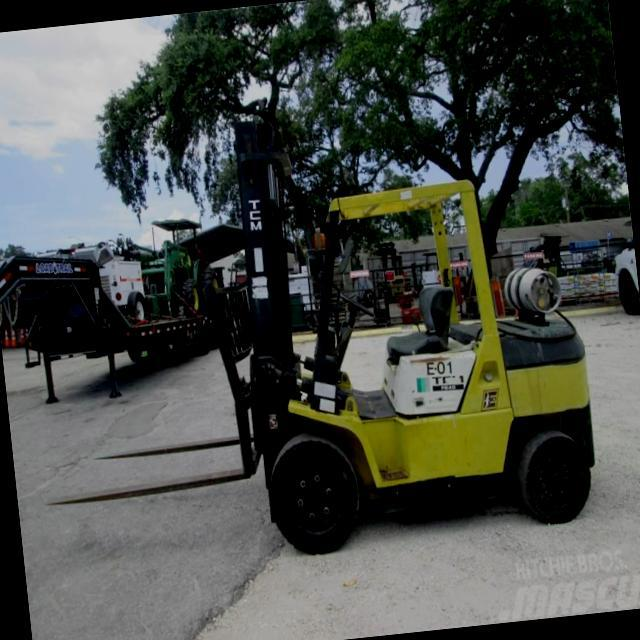forklift: (184, 158, 622, 570)
